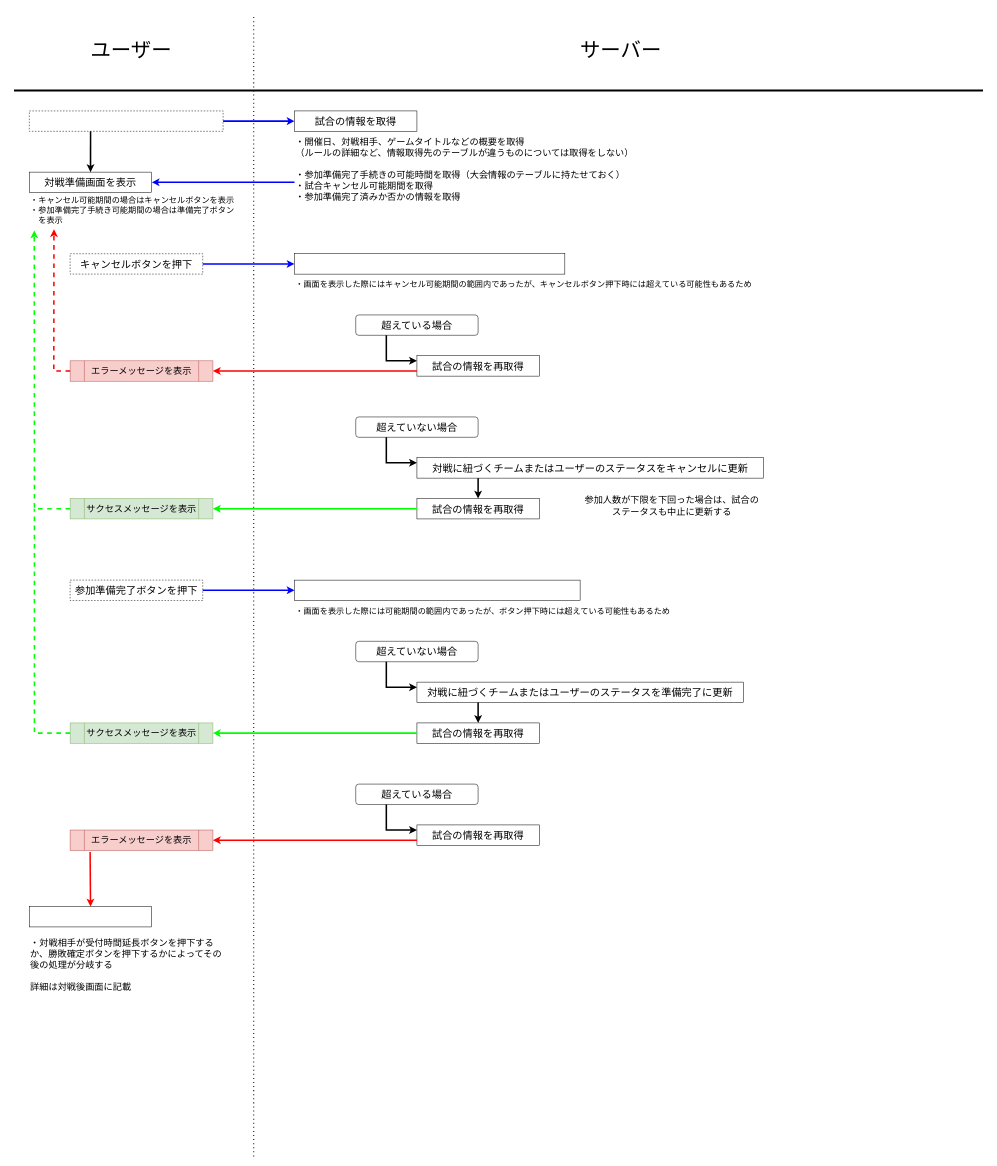
Image size: 997x1166. Some labels were removed from this diagram. The box of each missing label's shape, as (x1, y1, x2, y2) in pixels:
参加準備完了手続き可能期間を超えていないかをチェック: (294, 580, 580, 601)
対戦後画面を表示: (29, 906, 152, 927)
試合キャンセル可能期間を超えていないかをチェック: (294, 253, 565, 274)
試合予定一覧画面より詳細ボタンを押下: (29, 110, 223, 131)
